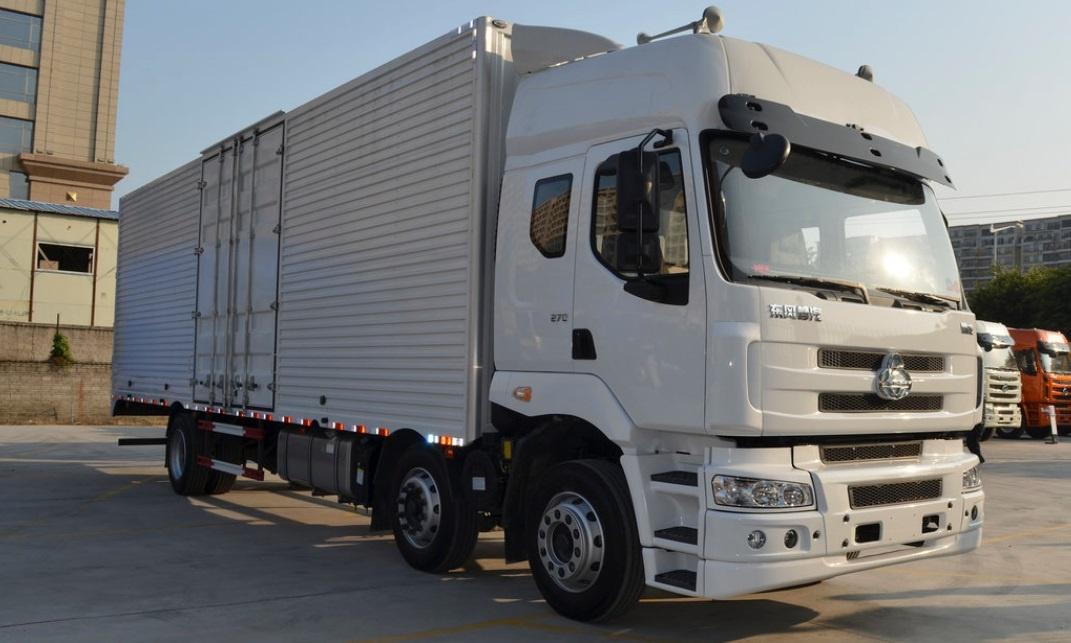heavy truck: (90, 29, 990, 607)
